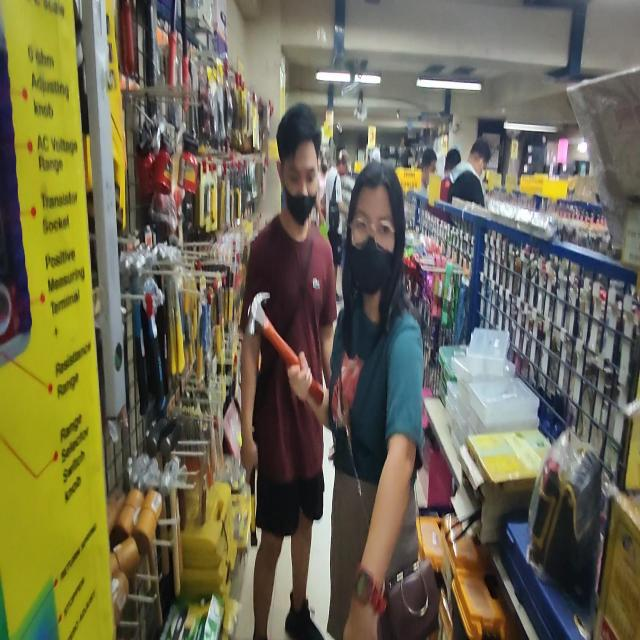hammer: (246, 292, 324, 404), (249, 422, 258, 546)
